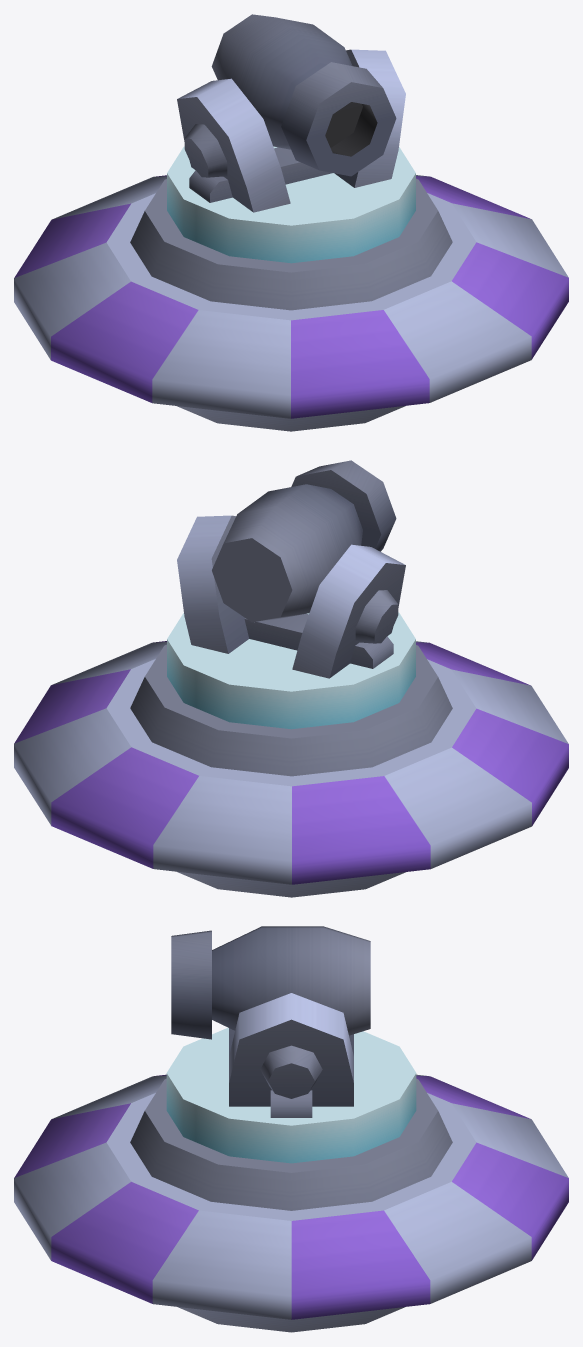
File: enemy-ufo-c-weapon.fbx
The picture shows the model from 3 angles, top to bottom: view 1: azimuth 30°, elevation 25°; view 2: azimuth 150°, elevation 25°; view 3: azimuth 270°, elevation 25°; orthographic projection.
Parts seen in each view (by area): view 1: enemy-ufo-c-weapon, barrel; view 2: enemy-ufo-c-weapon, barrel; view 3: enemy-ufo-c-weapon, barrel.
Boxes of the visible parts, bbox=[...] form: enemy-ufo-c-weapon: bbox=[14, 49, 568, 431]; barrel: bbox=[211, 14, 396, 176]; enemy-ufo-c-weapon: bbox=[14, 515, 568, 897]; barrel: bbox=[212, 460, 396, 622]; enemy-ufo-c-weapon: bbox=[14, 993, 568, 1332]; barrel: bbox=[171, 926, 370, 1039].
Size of the model in its own units: 100 by 67.83 by 100.
